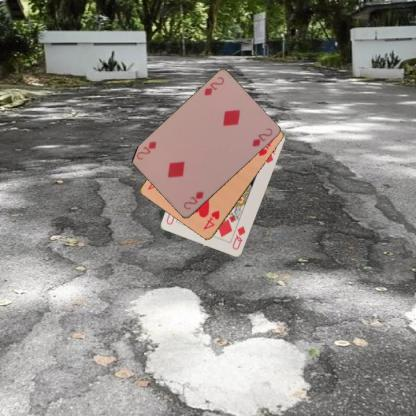2d: (181, 189, 205, 211), (202, 75, 225, 97)
4h: (200, 208, 221, 231)
Qd: (230, 224, 247, 251)
